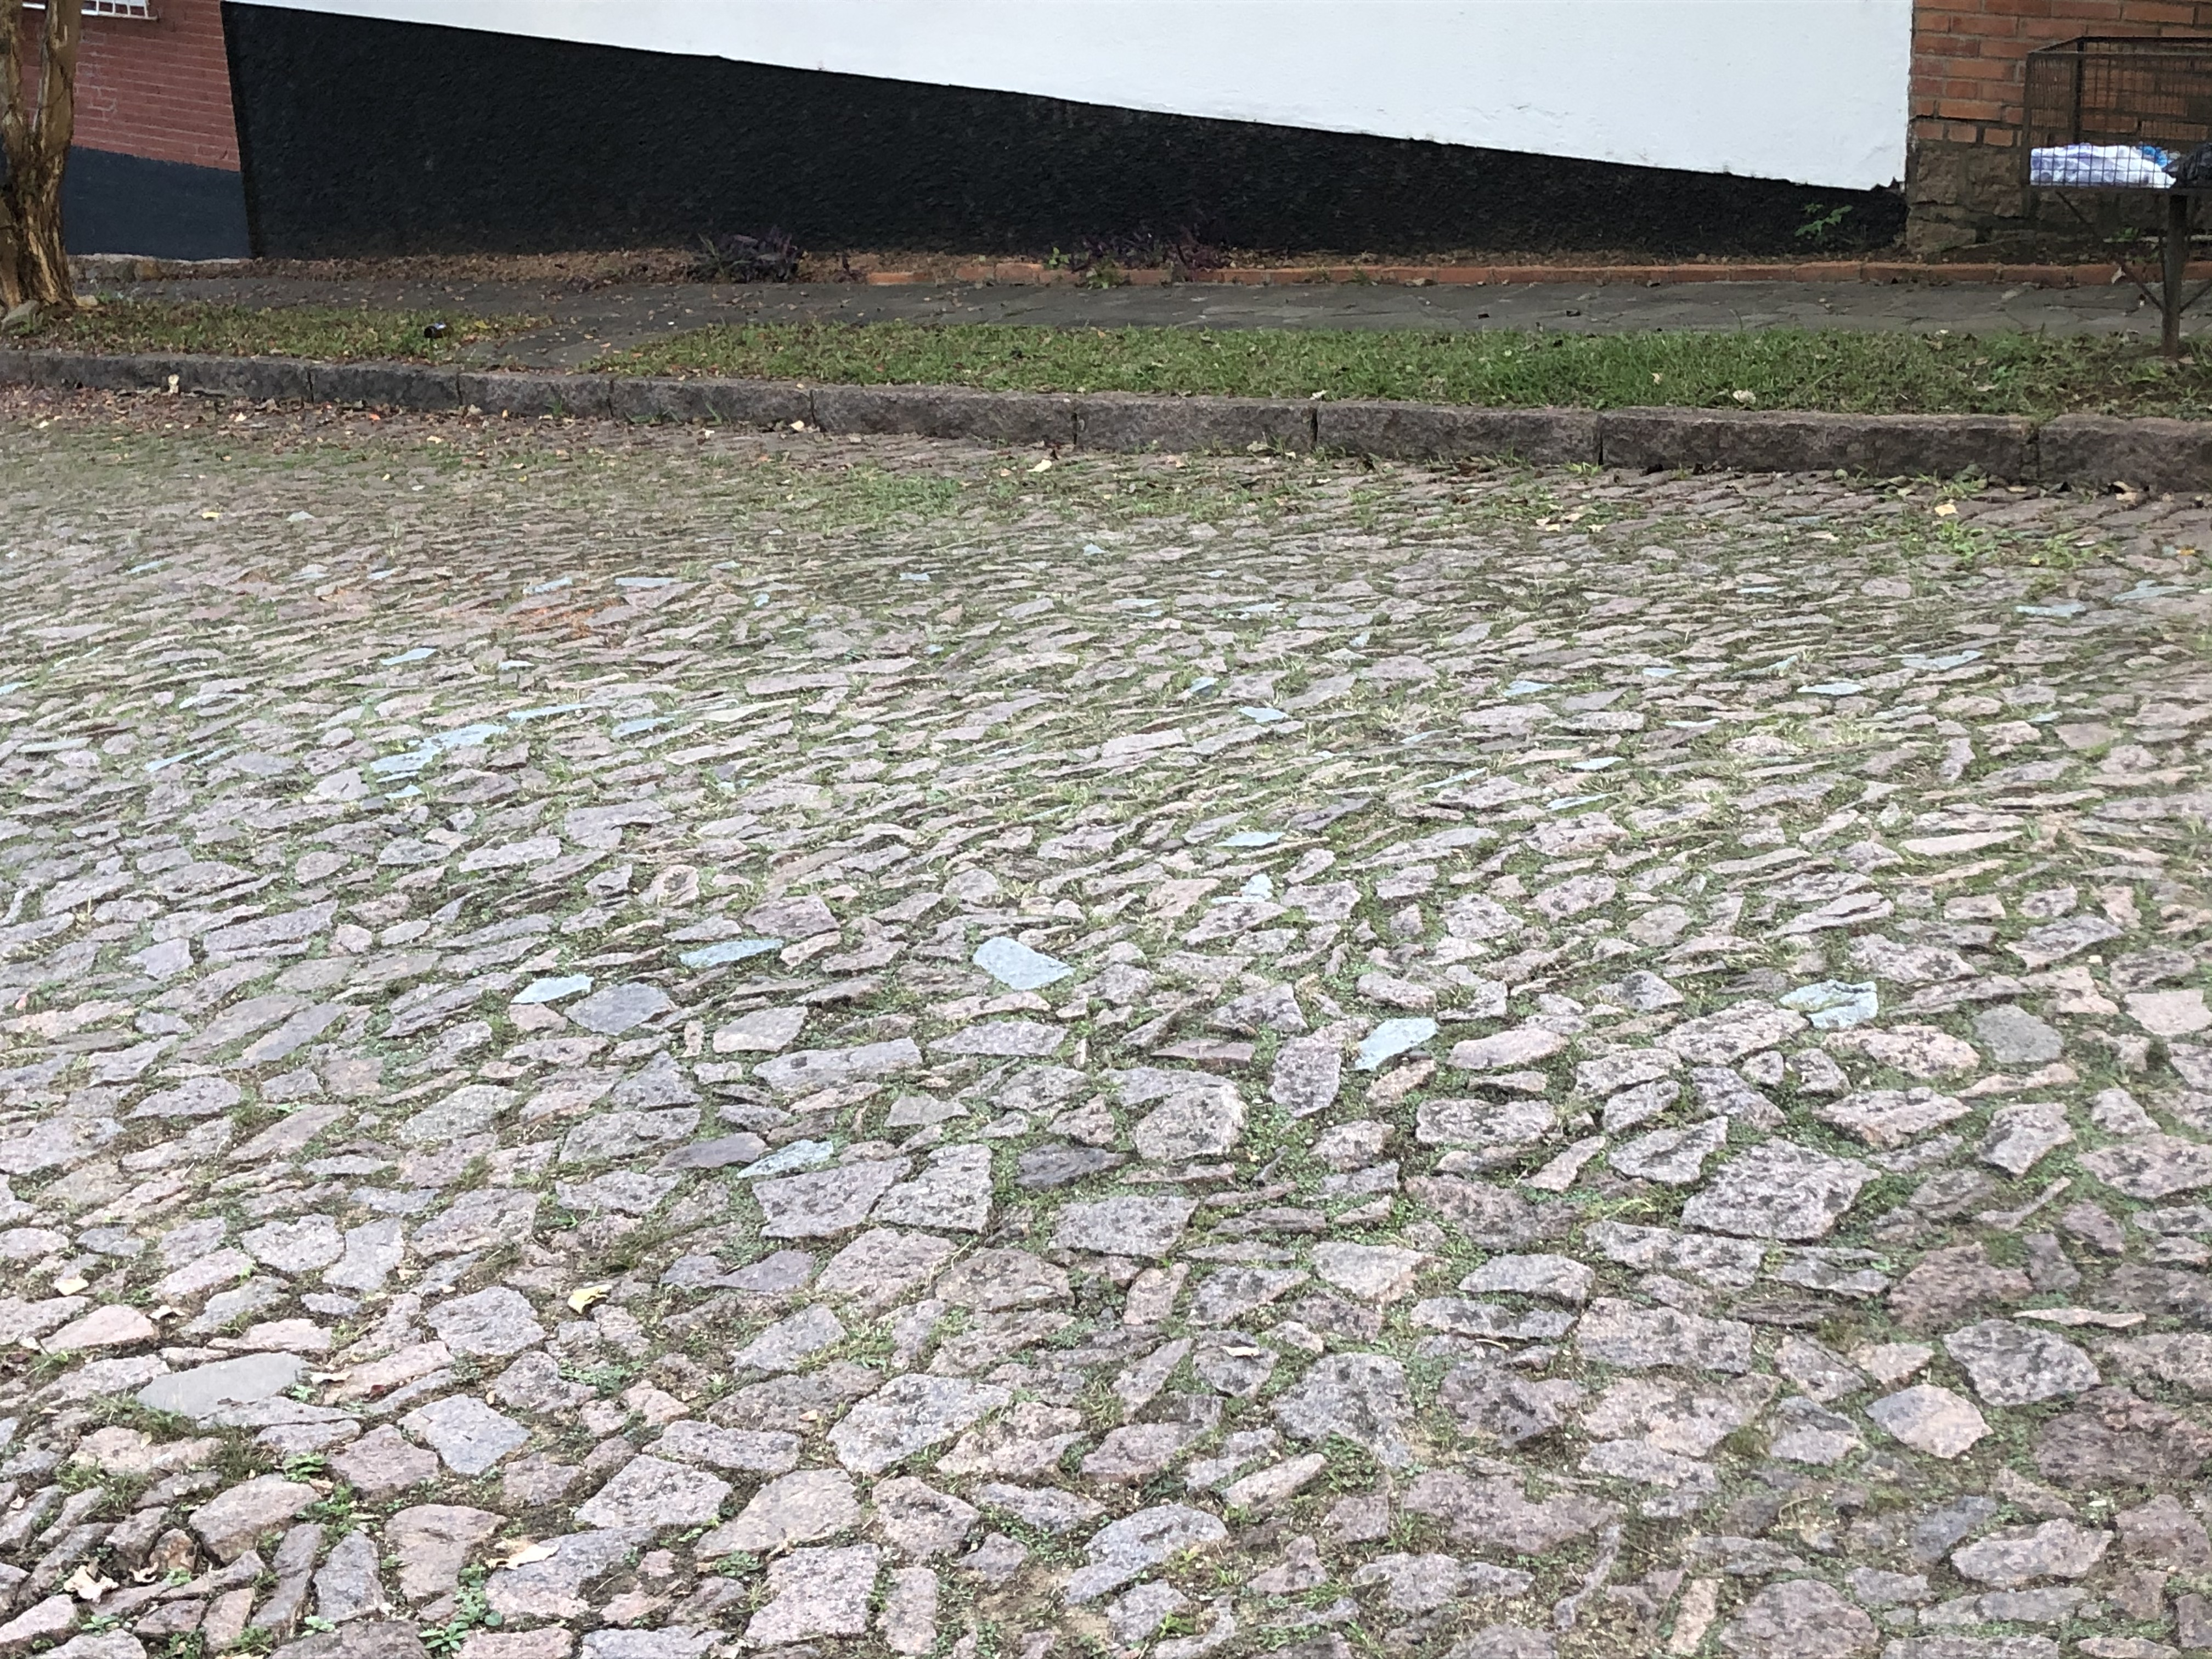vag49: (0, 155, 2184, 624)
